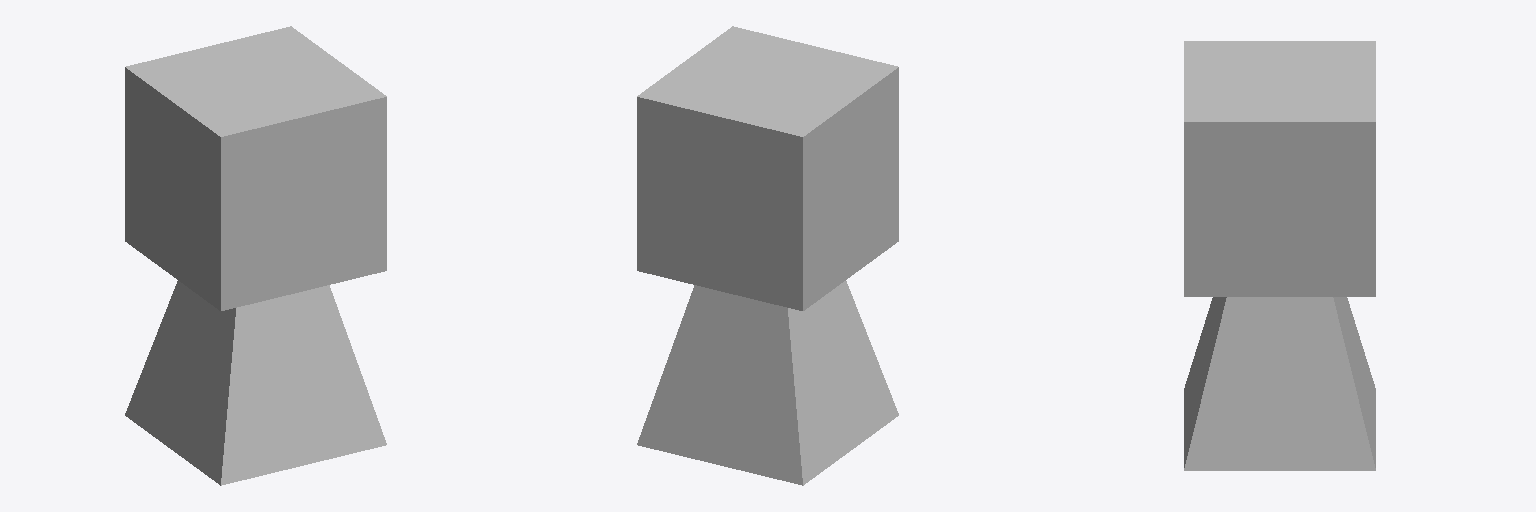
The model's file is smiley guy.obj.
3 renders of one model, left to right at view 1: azimuth 30°, elevation 25°; view 2: azimuth 150°, elevation 25°; view 3: azimuth 270°, elevation 25°, orthographic.
Visible parts, largest first — view 1: smiley guy; view 2: smiley guy; view 3: smiley guy.
Part boxes in pixels (x1,y1,x2,y2): smiley guy: (125,26,386,485); smiley guy: (637,26,898,485); smiley guy: (1184,41,1375,470).
Size of the model in its own units: 1 by 2 by 1.